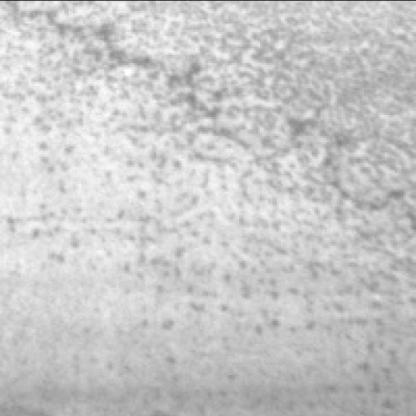pitted_surface: (11, 4, 404, 320)
